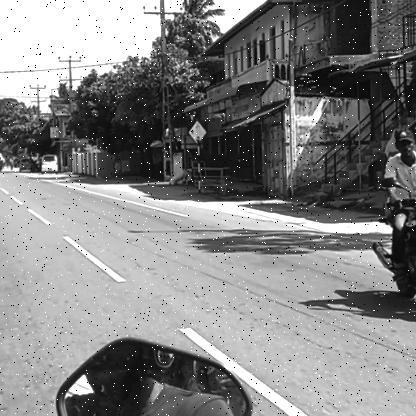motorcycle: (370, 186, 416, 324)
